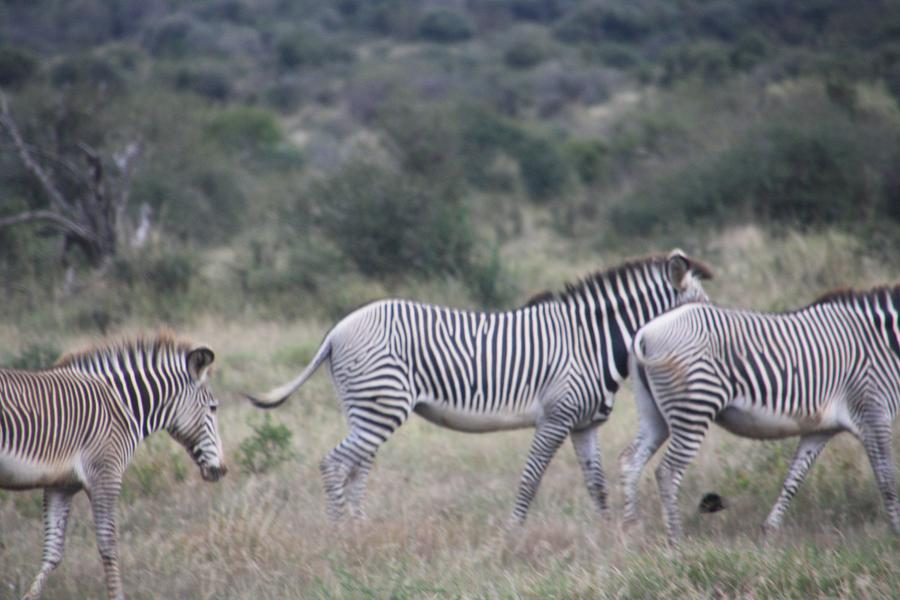zebra_grevys: (325, 272, 599, 426)
